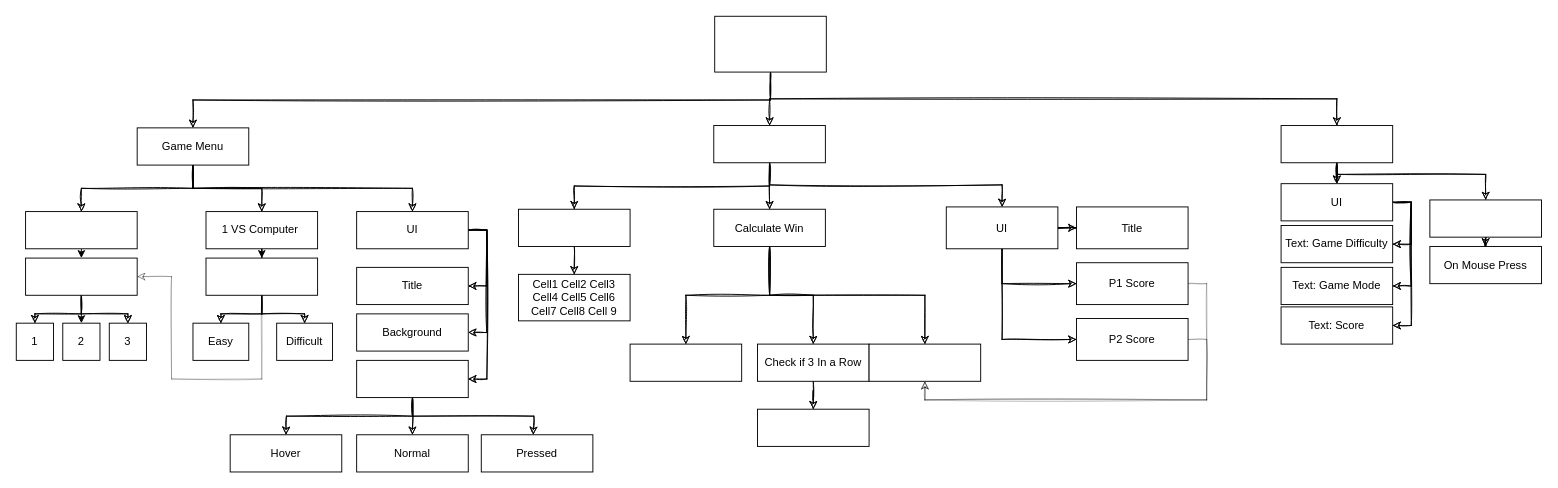
The diagram is 1558 pixels wide and 488 high, and some of its shapes have lost their labels. The centre of each missing label's shape, as x and y in pixels:
"1 Vs 1" belongs at point 81,230.
"3X3 Grid" belongs at point 574,227.
"Buttons" belongs at point 412,378.
"Choose Difficulty" belongs at point 261,276.
"Choose Rounds" belongs at point 81,276.
"End Screen" belongs at point 1336,144.
"Main Game" belongs at point 769,144.
"Next Round" belongs at point 813,427.
"Quit" belongs at point 1485,218.
"Tic-Tac-Toe" belongs at point 770,43.
"Track Grid Track Clicked By" belongs at point 685,362.
"Update Score" belongs at point 924,362.
